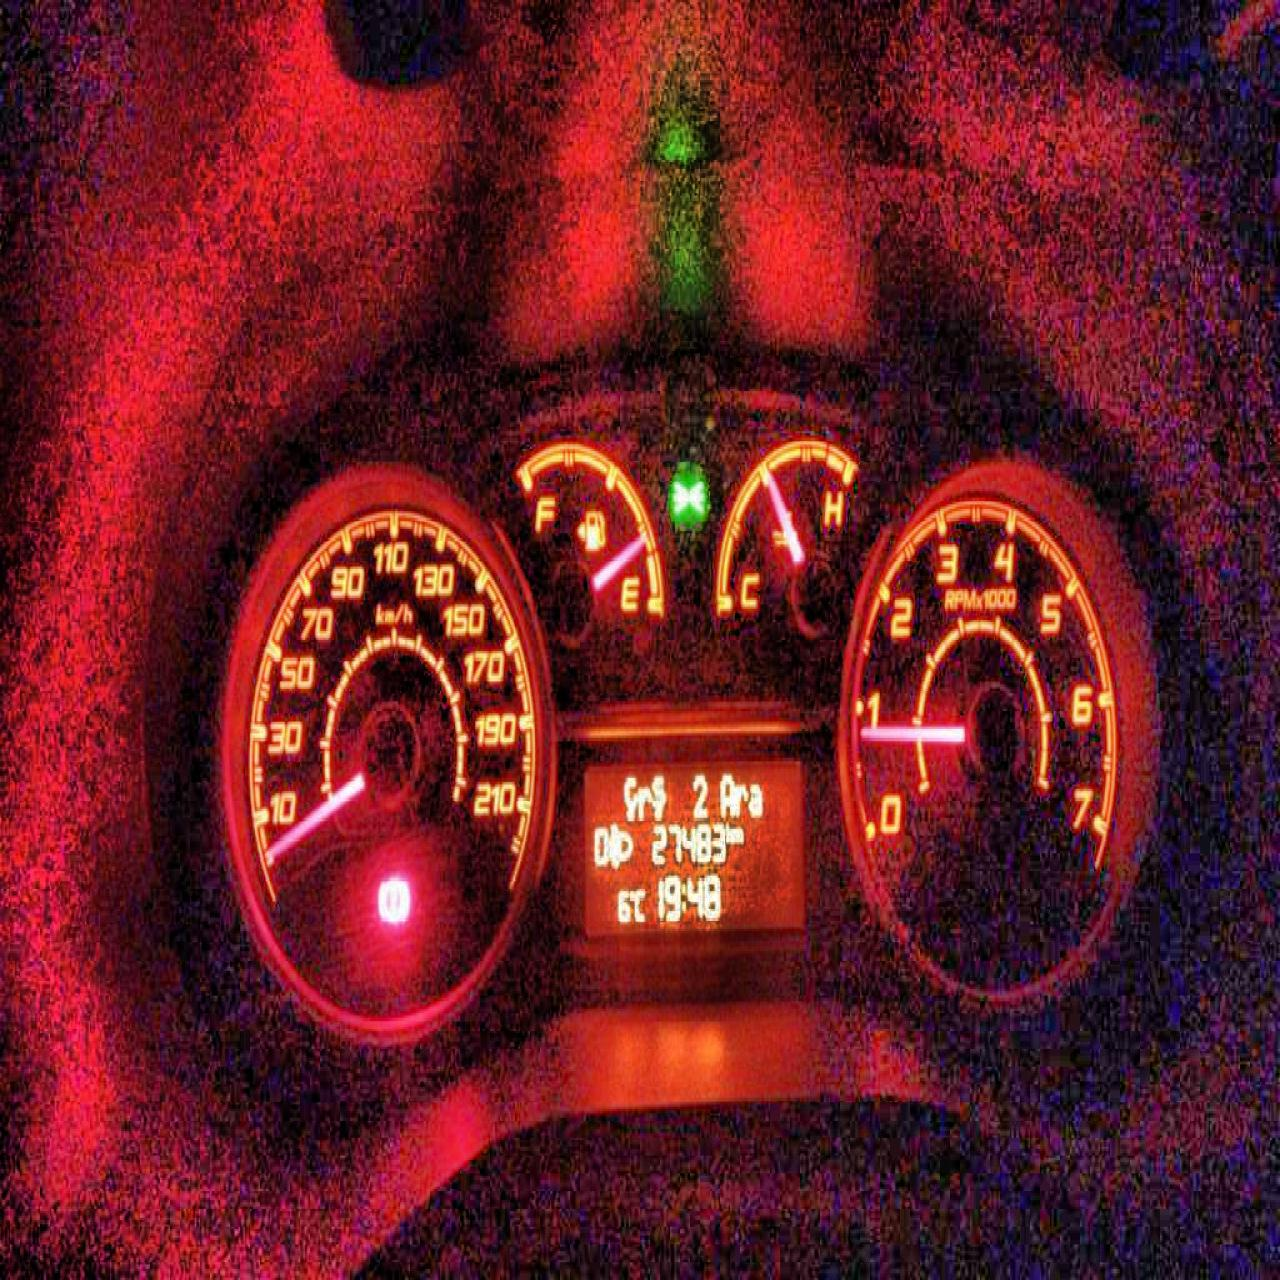0: (592, 821, 607, 869)
1: (655, 873, 662, 925)
2: (690, 769, 708, 818), (651, 819, 666, 864)
3: (710, 818, 726, 864)
4: (687, 873, 702, 920), (681, 822, 695, 862)
6: (617, 887, 629, 922)
7: (667, 821, 681, 862)
8: (702, 873, 720, 918), (695, 822, 710, 862)
9: (663, 871, 680, 920)
X: (652, 771, 667, 818), (719, 771, 734, 816), (622, 774, 636, 819), (734, 782, 749, 816), (636, 782, 651, 818), (749, 781, 763, 816), (634, 887, 646, 922), (733, 824, 743, 846), (680, 878, 686, 915), (727, 819, 733, 844)
odometer: (578, 747, 808, 933)
